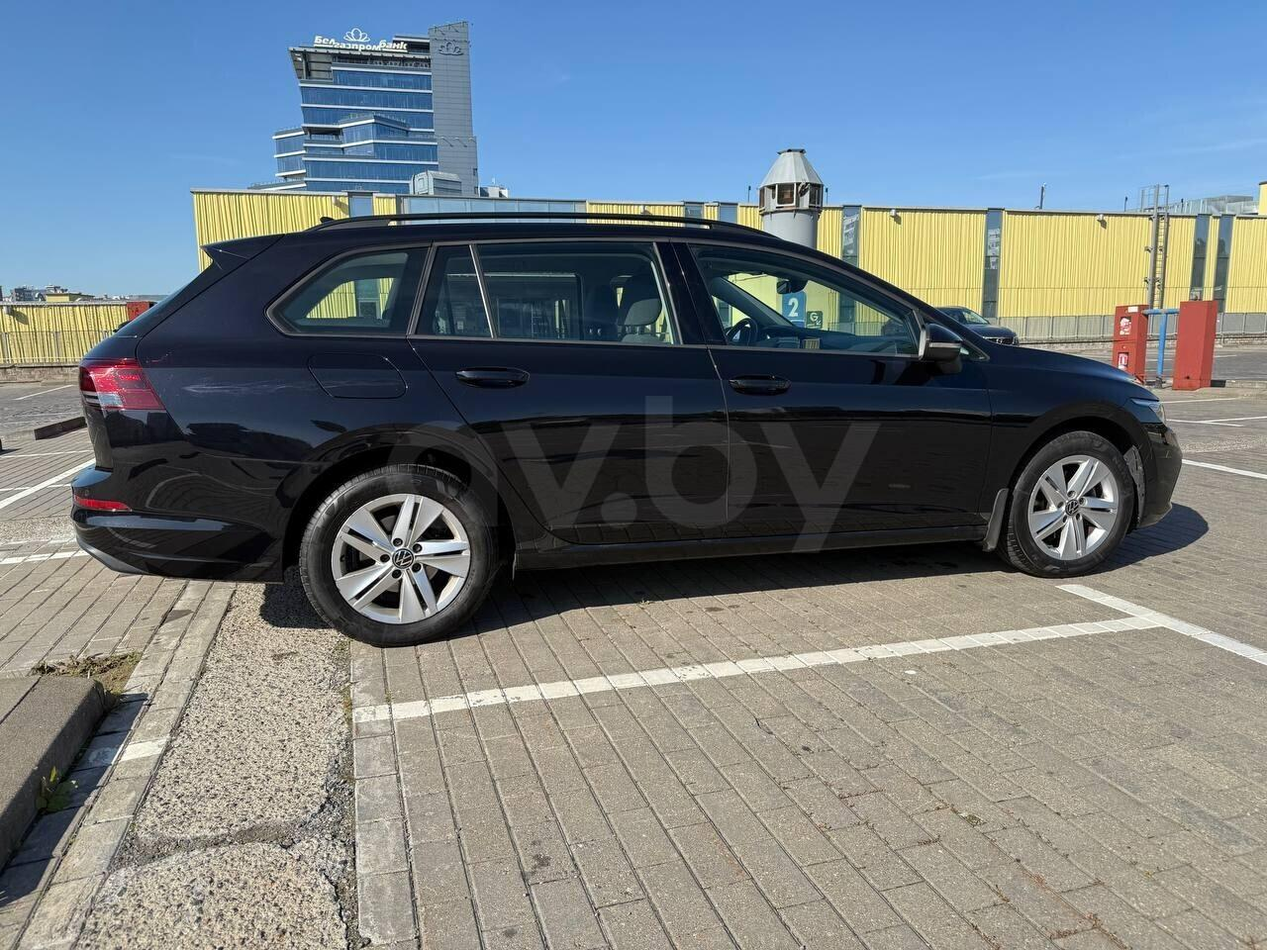Golf_2019: (59, 213, 1185, 641)
